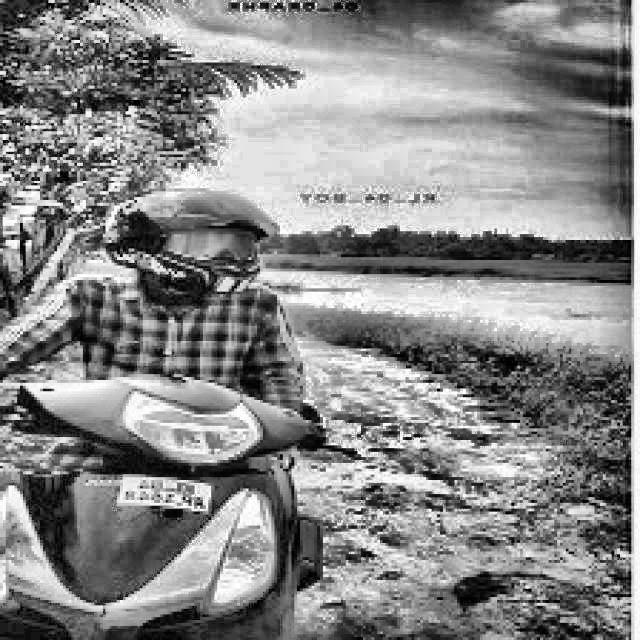motorcycle: (0, 370, 333, 639)
